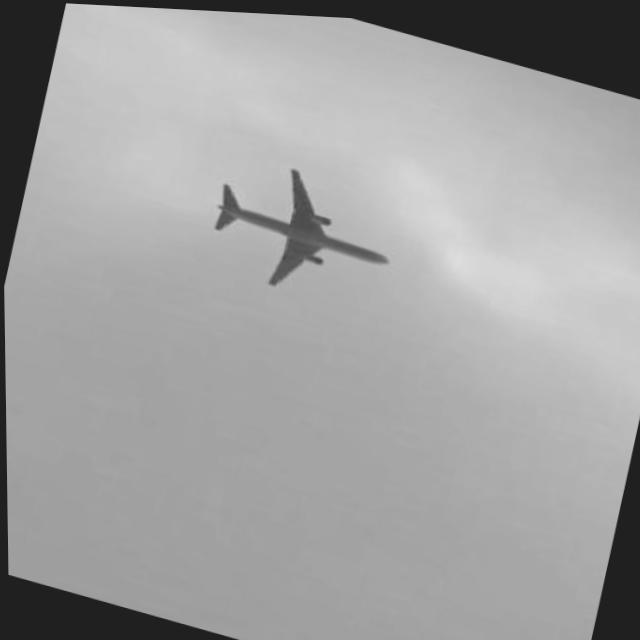aeroplane: (203, 143, 405, 311)
